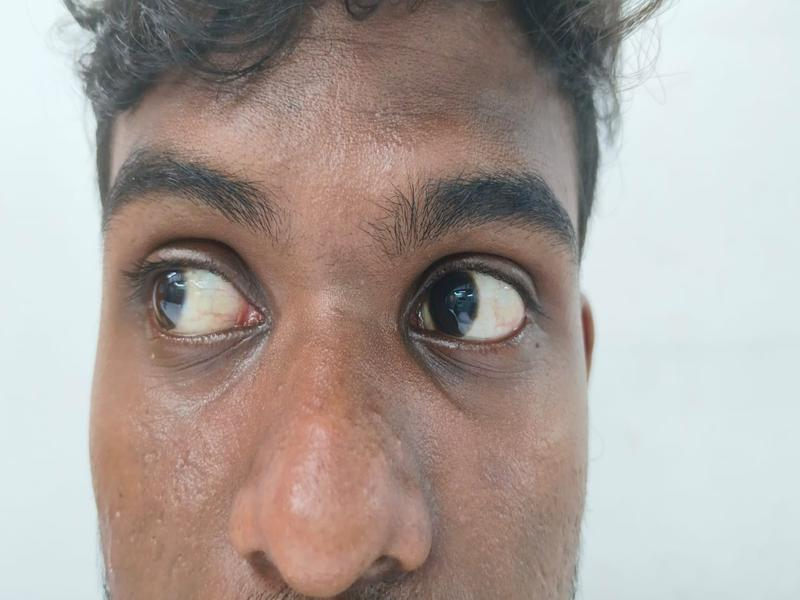EYE RIGHT: (148, 266, 254, 333), (421, 272, 526, 339)
